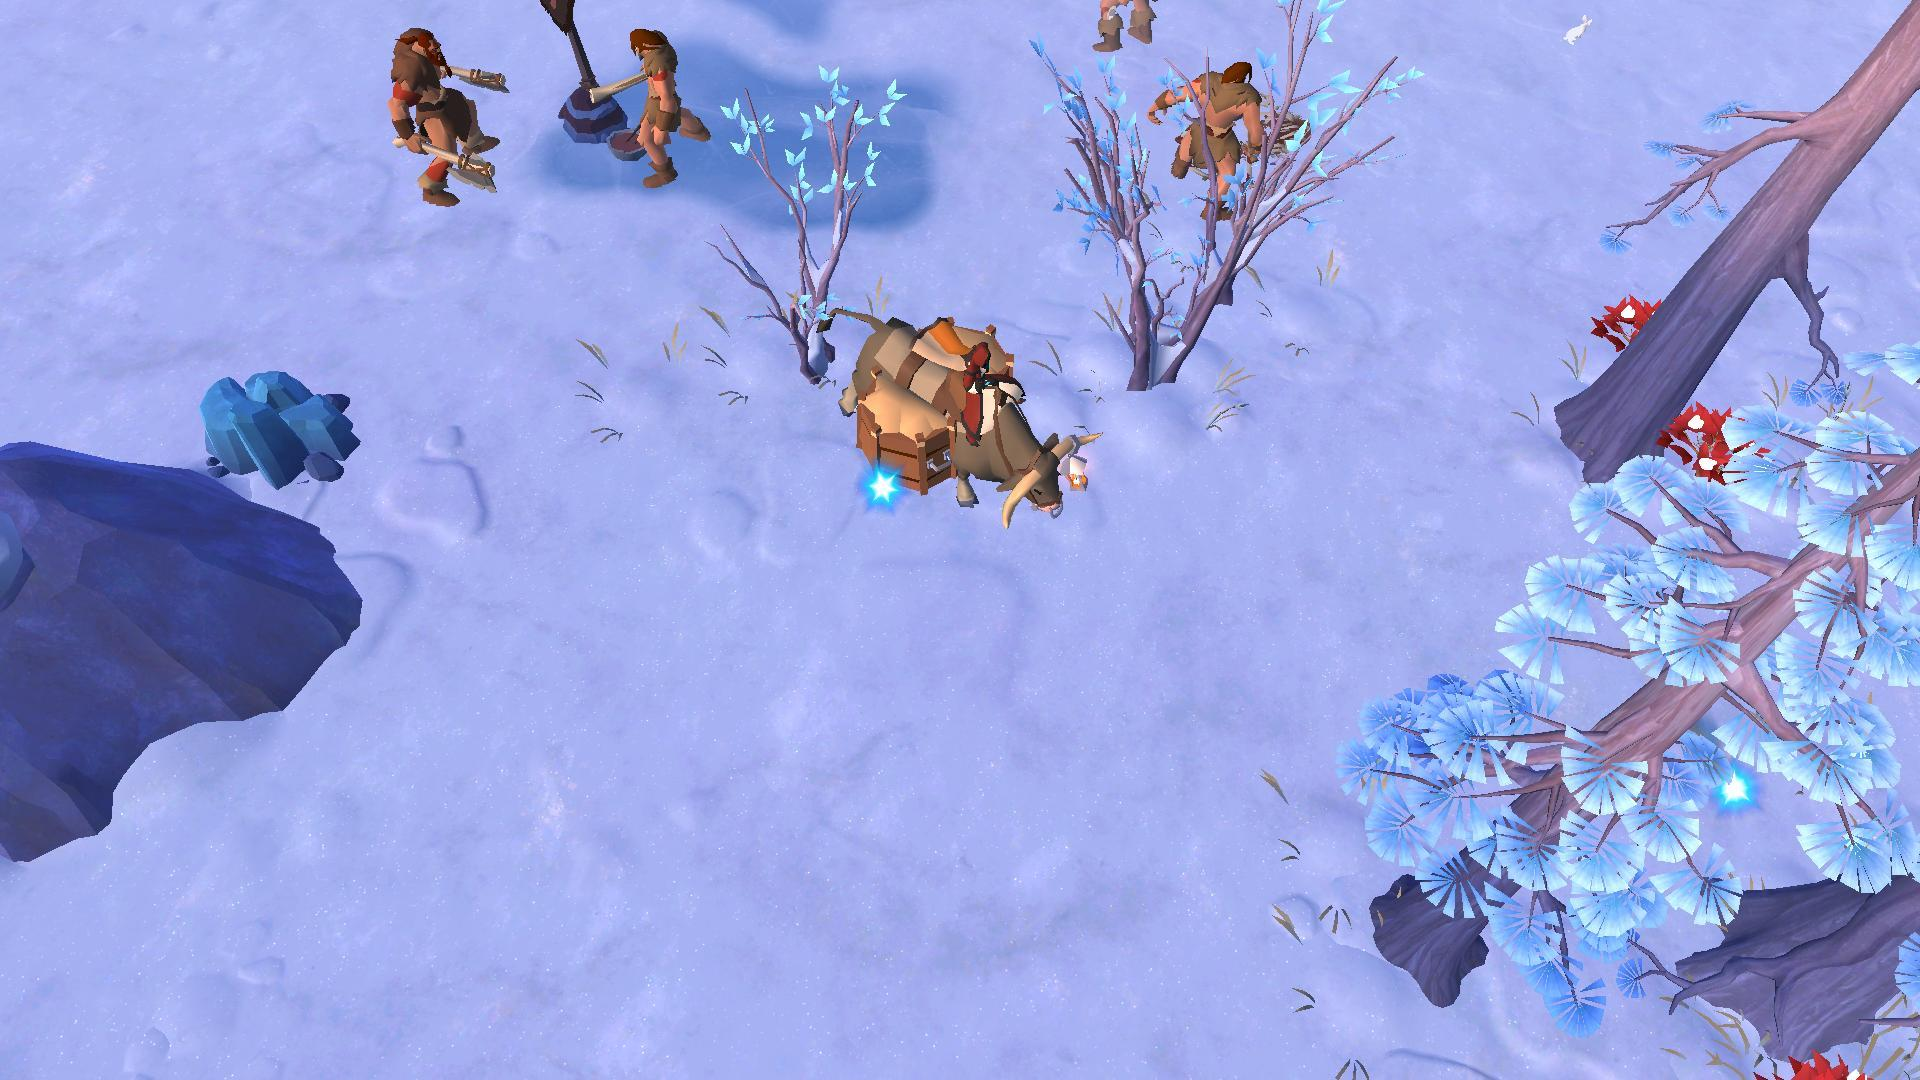enemy_factionKeeper: (375, 28, 489, 204), (588, 18, 715, 175), (1159, 73, 1274, 222), (1088, 0, 1183, 70)
fiber_t5: (1652, 406, 1759, 491), (1593, 291, 1684, 351)
rock_t4: (193, 369, 360, 492)
